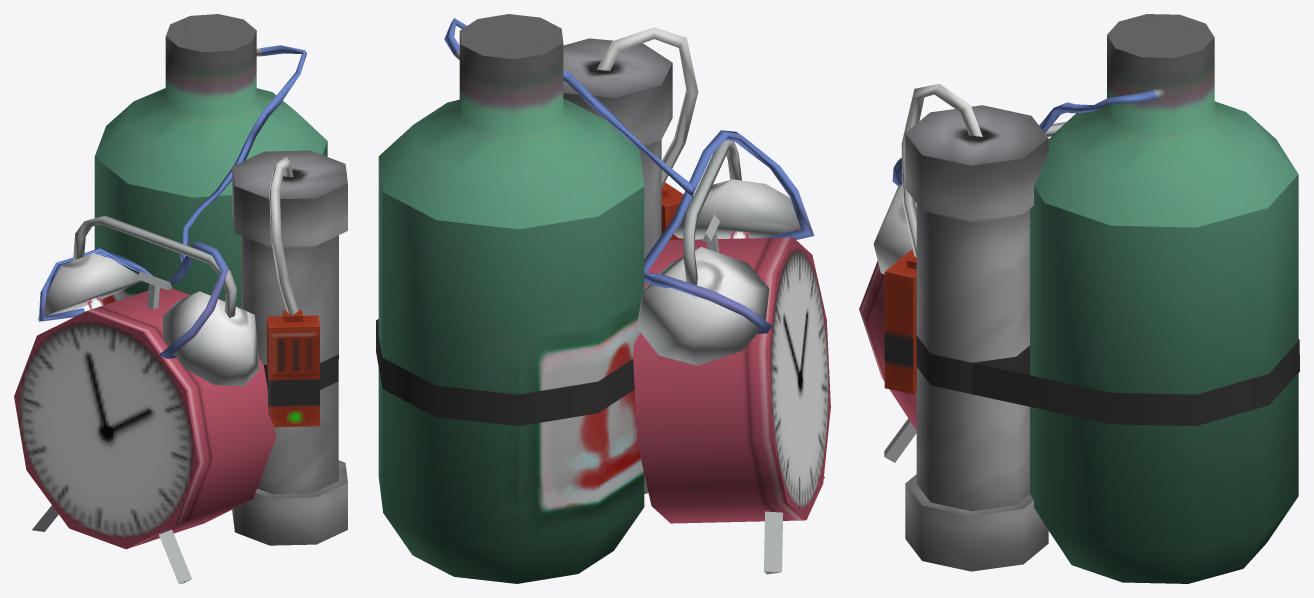
Rendered from MiniPropaneBombTimer_Mesh.fbx.
3 renders of one model, left to right at view 1: azimuth 30°, elevation 25°; view 2: azimuth 150°, elevation 25°; view 3: azimuth 270°, elevation 25°, orthographic. The views are drawn at different scales.
Visible parts, largest first — view 1: MiniPropaneBombTimer; view 2: MiniPropaneBombTimer; view 3: MiniPropaneBombTimer.
Boxes of the visible parts, <box> form: MiniPropaneBombTimer: <box>14,14,347,583</box>; MiniPropaneBombTimer: <box>376,14,830,583</box>; MiniPropaneBombTimer: <box>859,14,1299,583</box>.
Bounding box in the file's own units: 30.59 × 40.63 × 32.
